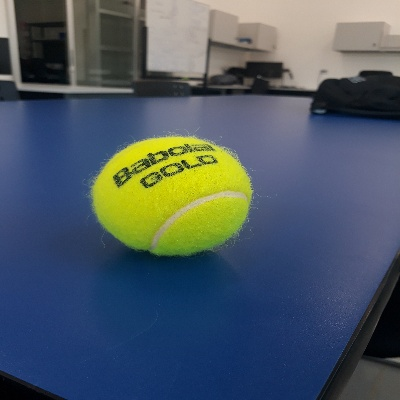Ball: (89, 134, 253, 257)
